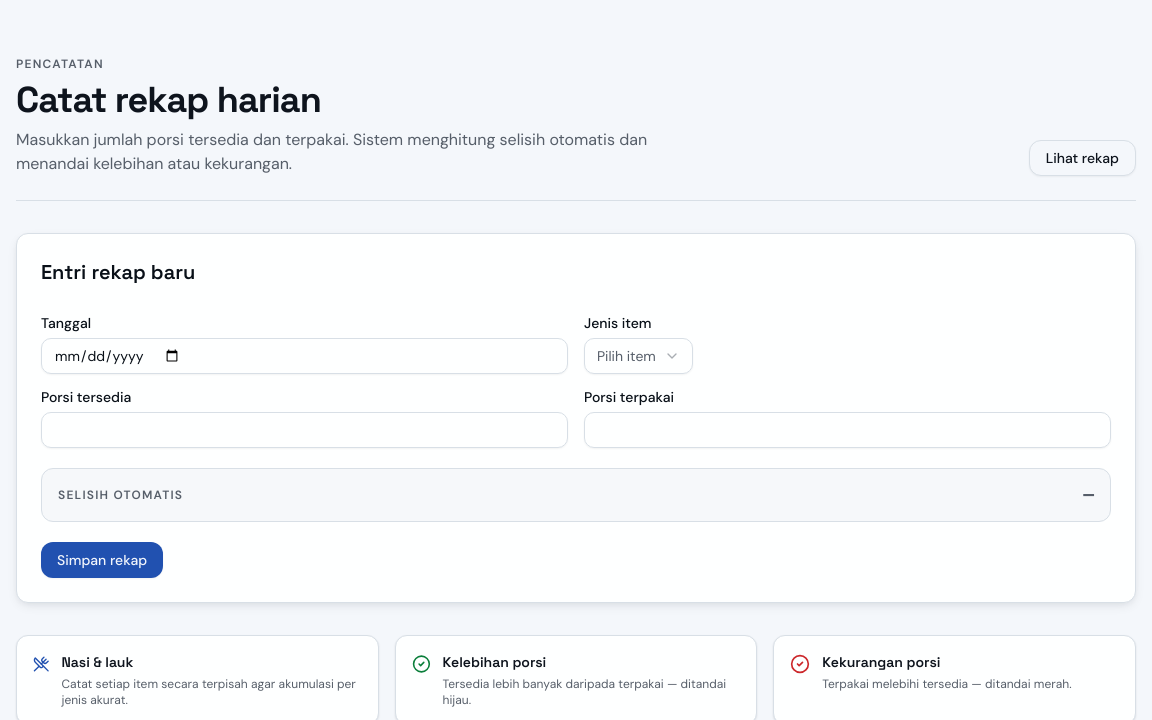
Test: CatatPage › computes shortfall 15 from available 50 and used 65
Type "50" into the number field labelled "Porsi tersedia" at (304, 430), box [41,412,568,448]
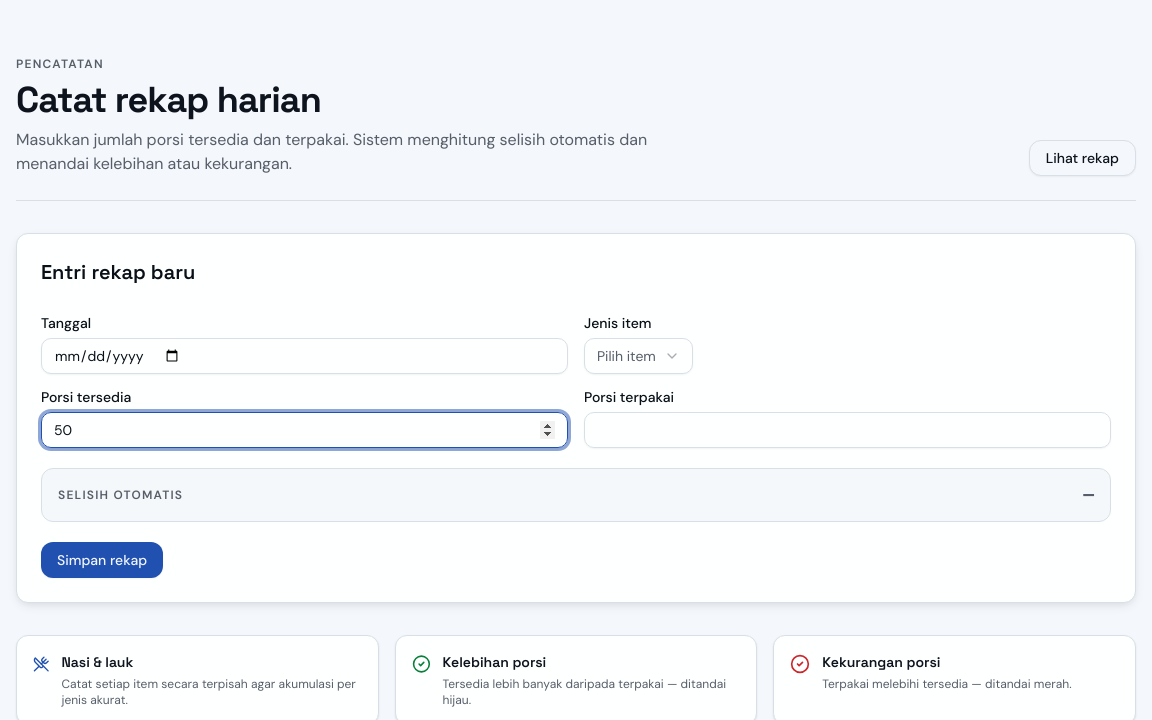
Type "65" into the number field labelled "Porsi terpakai" at (848, 430), box [584,412,1111,448]
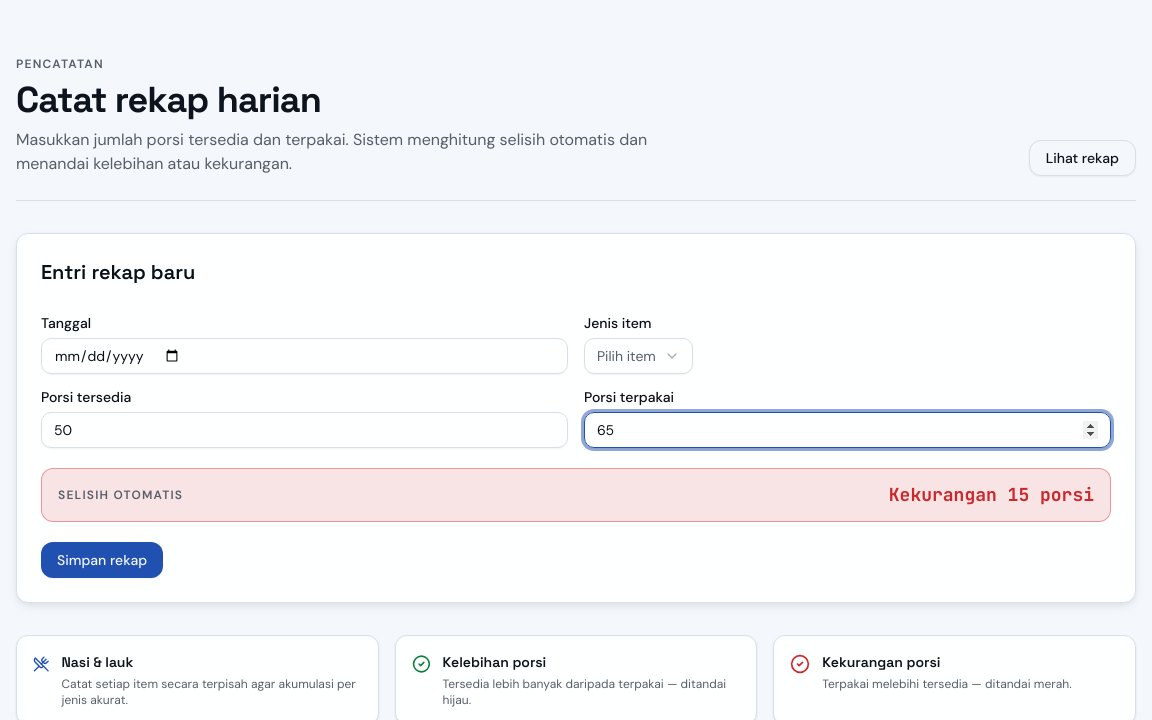
Check: the text "Kekurangan 15 porsi" is shown, box [889,481,1094,509]
